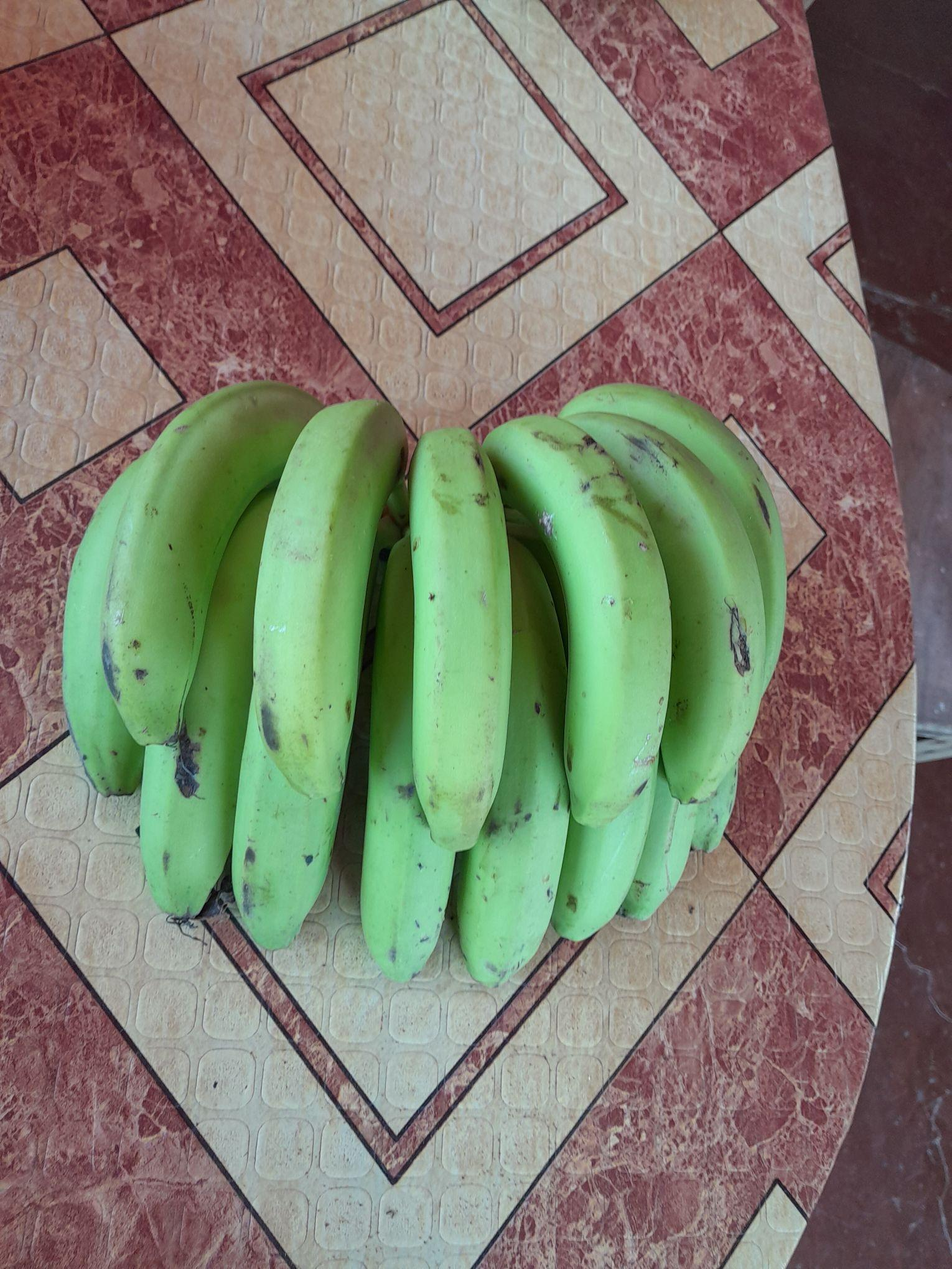Banana Unripe: (102, 382, 322, 746), (483, 414, 672, 828), (568, 411, 766, 803), (560, 384, 786, 688), (253, 399, 404, 798), (139, 488, 275, 917), (456, 540, 570, 986), (409, 429, 511, 851), (362, 538, 454, 981), (62, 459, 144, 796), (231, 704, 342, 949), (550, 773, 657, 939), (622, 766, 697, 920), (161, 863, 164, 866)
